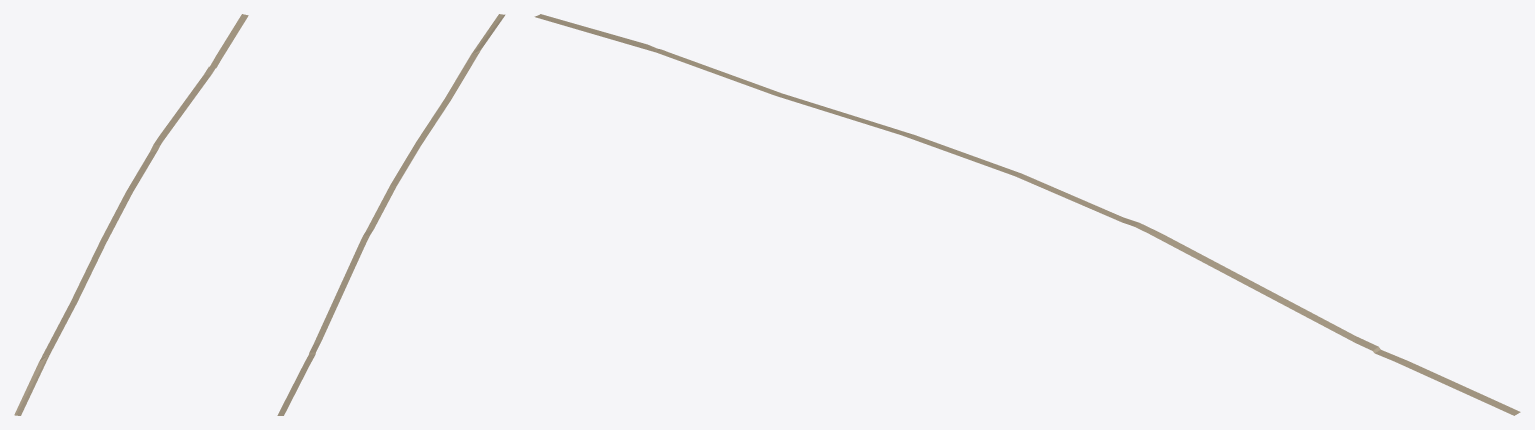
File: farm_-12_-12_track.glb
3 views of the same model, side by side, from view 1: azimuth 30°, elevation 25°; view 2: azimuth 210°, elevation 25°; view 3: azimuth 270°, elevation 25° (orthographic). The views are drawn at different scales.
Parts seen in each view (by area): view 1: geometry_0; view 2: geometry_0; view 3: geometry_0.
Part boxes in pixels (box(x1,y1,x2,y2)): geometry_0: box(14, 14, 248, 415); geometry_0: box(277, 14, 505, 415); geometry_0: box(534, 14, 1520, 415).
Size of the model in its own units: 320 by 15.45 by 339.
